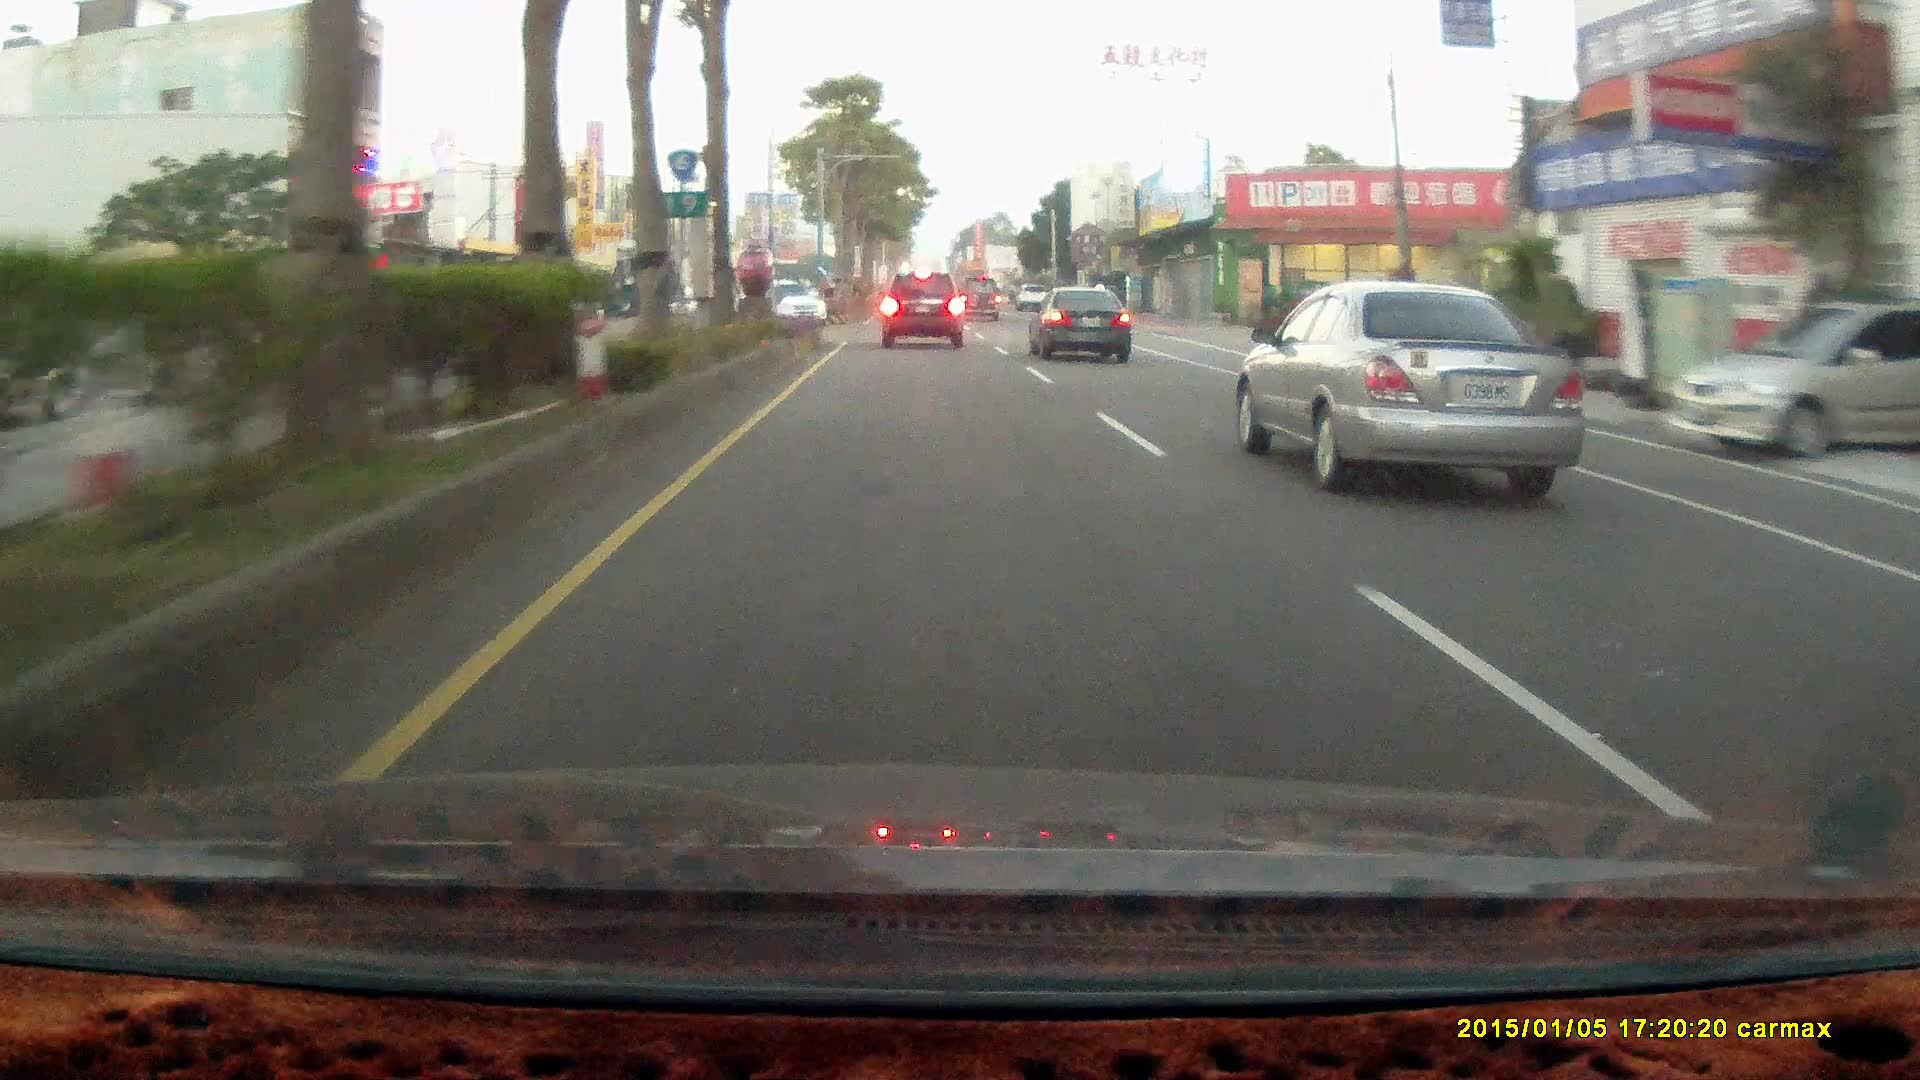vehicle: (1238, 290, 1578, 504), (1658, 291, 1919, 459), (1672, 302, 1920, 469), (1029, 286, 1137, 364), (1026, 284, 1130, 363), (881, 272, 968, 356), (880, 272, 961, 347), (764, 277, 827, 334), (956, 276, 1004, 323)
